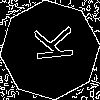K: (25, 25, 73, 63)
